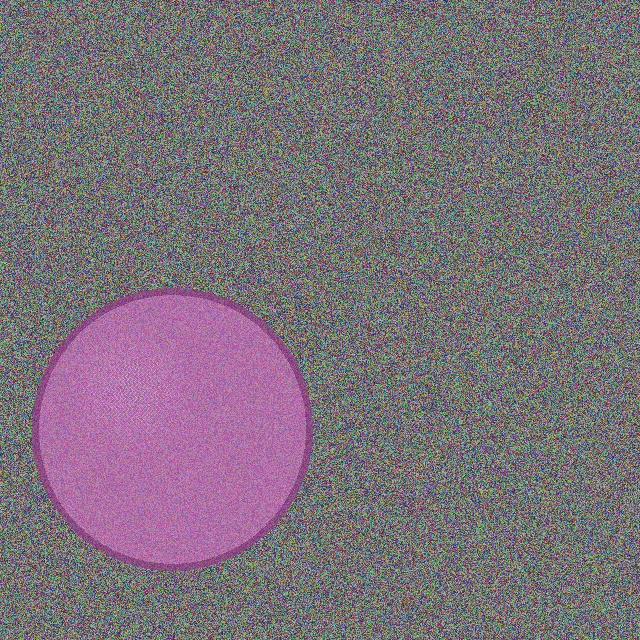lens: (35, 291, 309, 567)
